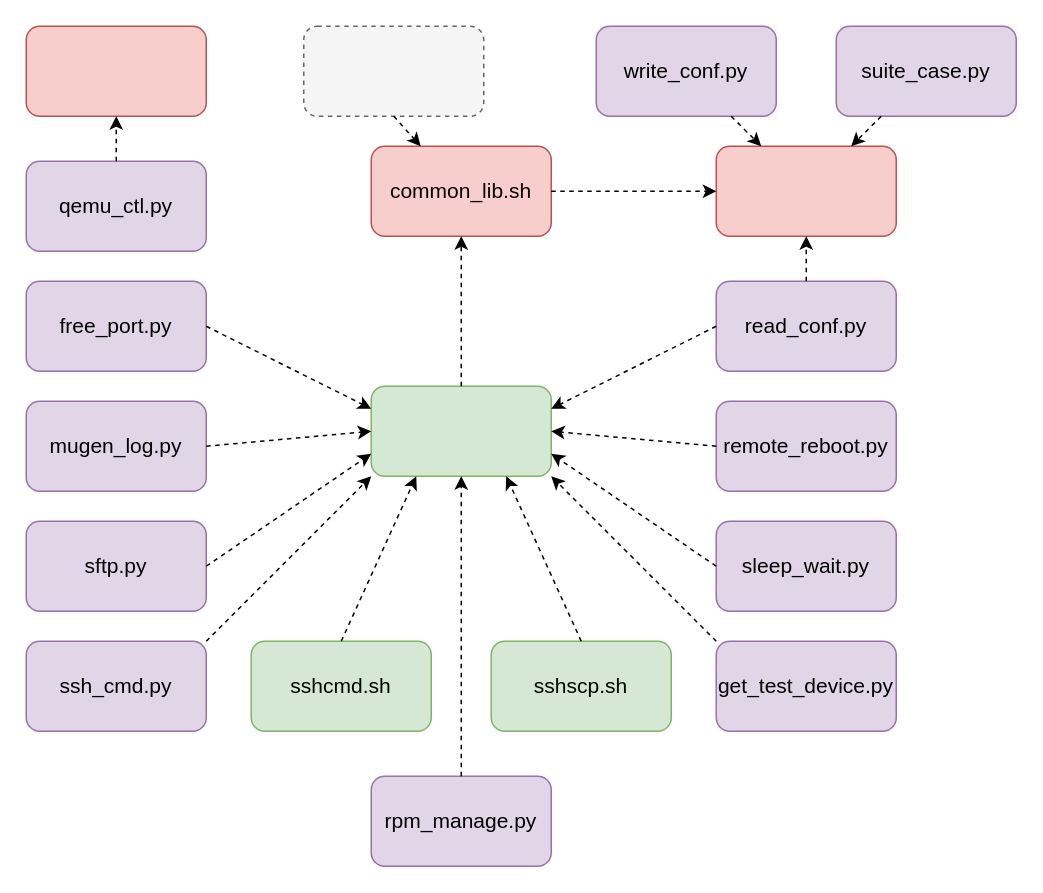
The diagram is 1043 pixels wide and 893 high, and some of its shapes have lost their labels. The shapes that lost their labels are listed below. From the top down, each one's box as (x1, y1, x2, y2) in pixels, then its label:
(25, 25, 206, 116): qemu_ctl.sh
(302, 25, 484, 116): common _lib _shell.sh
(715, 145, 896, 236): mugen.sh
(370, 385, 551, 476): common _lib _python.sh
